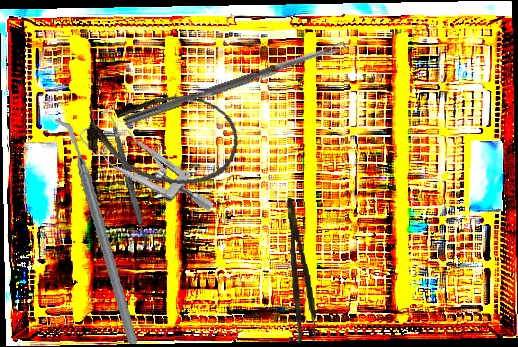Cannula: (79, 83, 245, 192)
Chopper: (28, 116, 164, 345)
Scalpel Handle: (111, 125, 150, 247)
Speculum: (75, 93, 217, 245)
Surgical Spoon: (122, 41, 348, 127)
Tissue Forceps: (284, 196, 319, 344)
